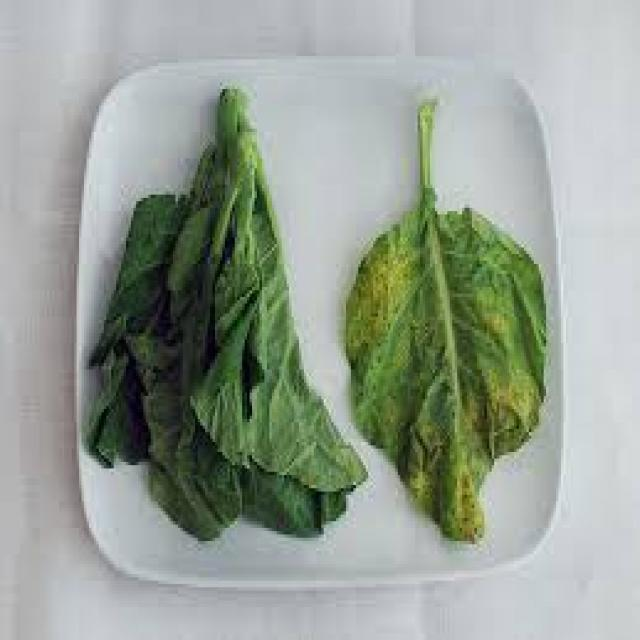organic waste: (341, 96, 549, 541), (244, 172, 366, 488), (128, 304, 235, 541), (84, 181, 193, 363), (193, 178, 259, 469), (160, 129, 234, 313), (232, 462, 346, 531), (84, 349, 148, 468), (213, 86, 252, 162)
